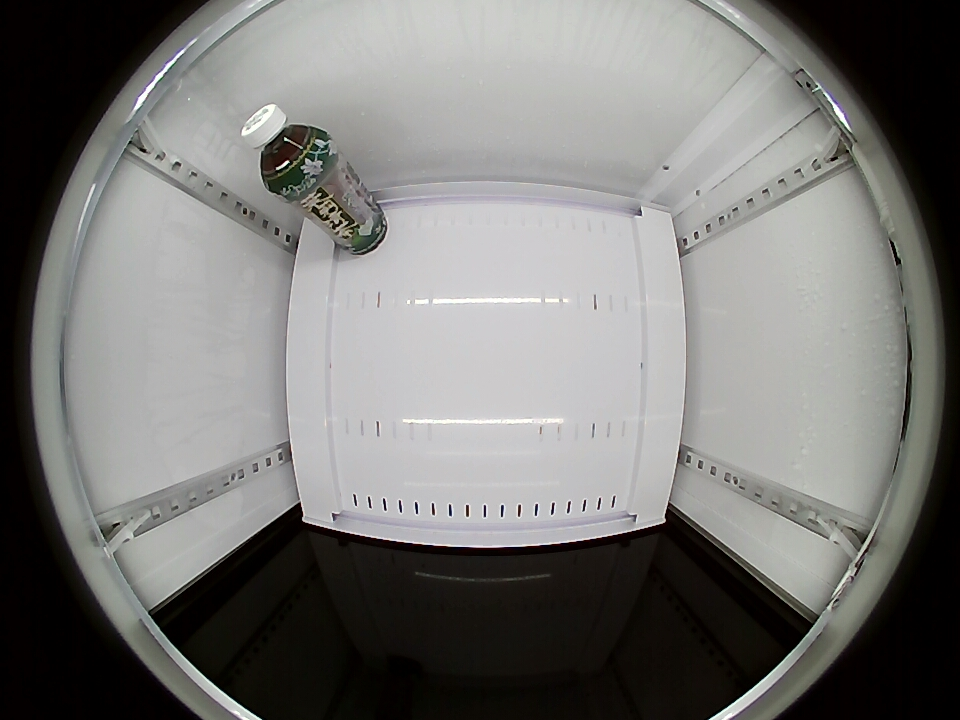moliqingcha: (241, 104, 332, 195)
